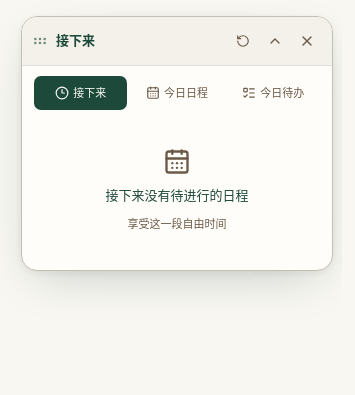
Test case: floating schedule window › shows chosen task times and orders today's tasks by them
Click the button "今日待办". click: point(273, 93)
box: [227,76,320,110]
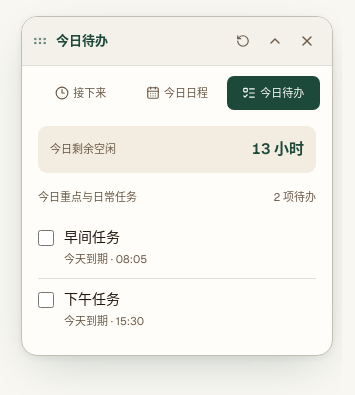
Expected: the list items read "早间任务今天到期 · 08:05", "下午任务今天到期 · 15:30", in this order, [38,217,316,278]; [38,278,316,339]
